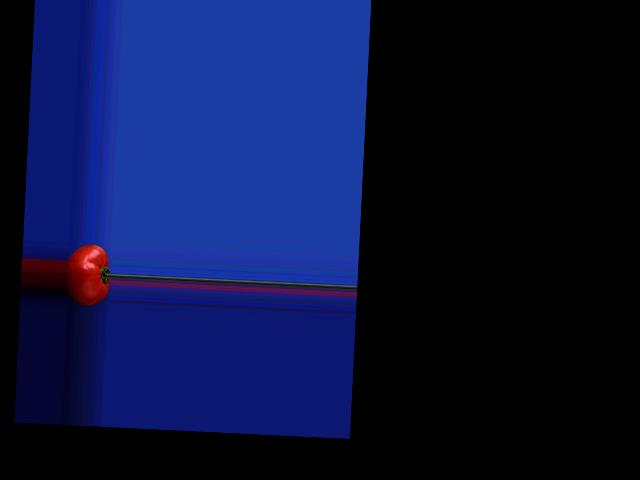tomato: (64, 243, 112, 307)
